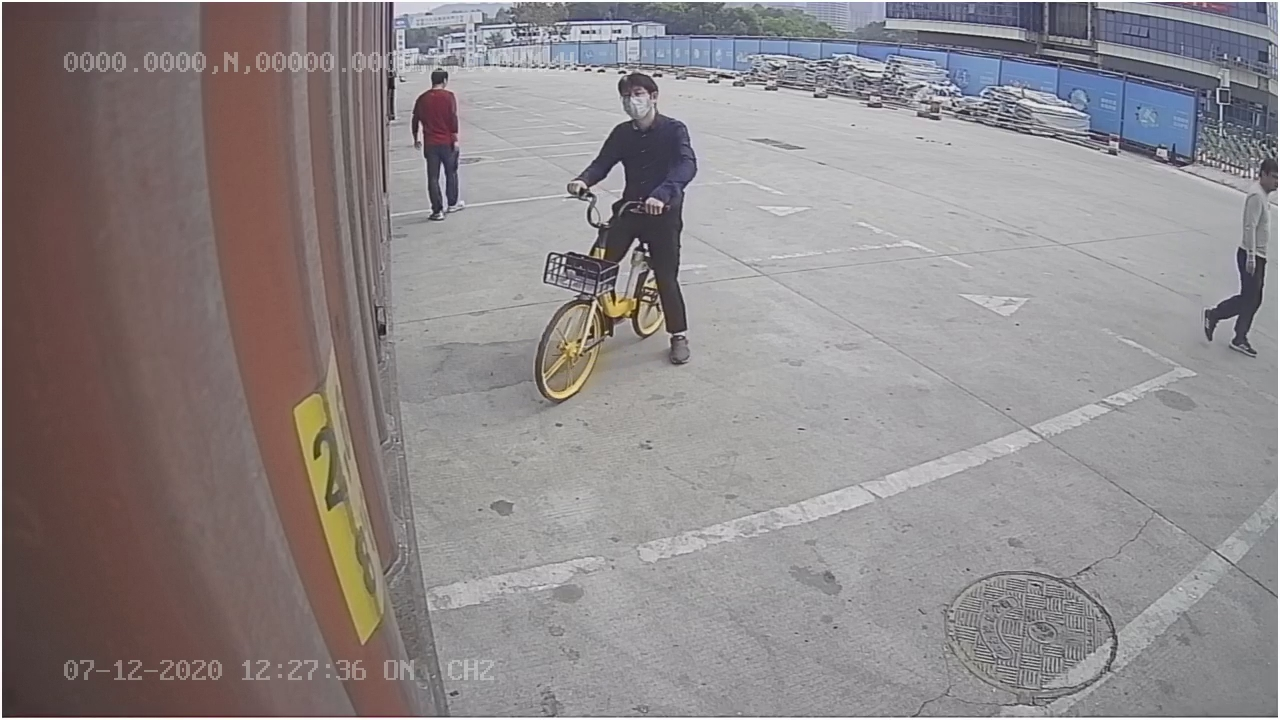person: (403, 64, 468, 223)
